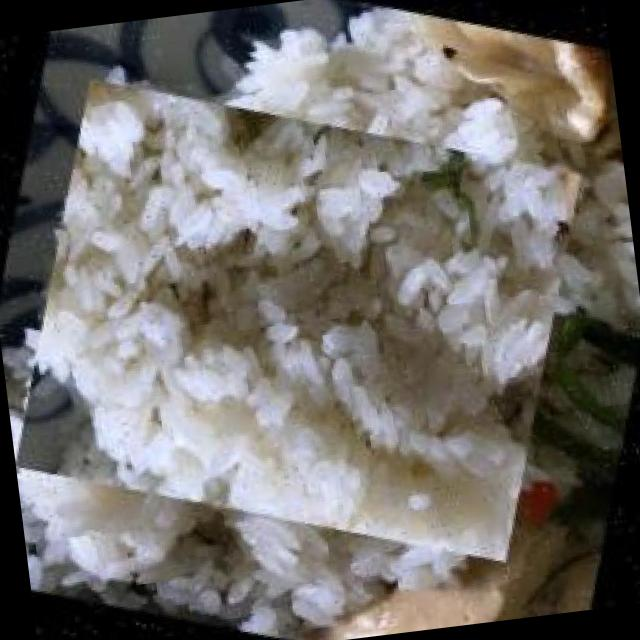rice: (0, 5, 612, 635)
